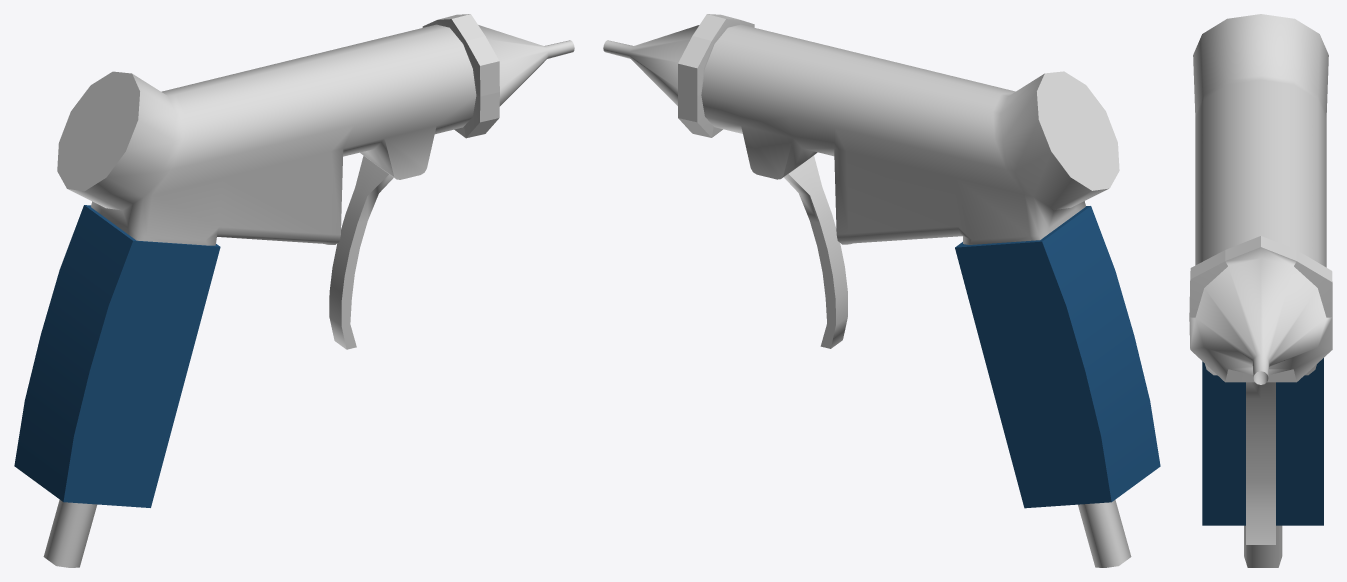
The picture shows the model from 3 angles, left to right: view 1: azimuth 30°, elevation 25°; view 2: azimuth 150°, elevation 25°; view 3: azimuth 270°, elevation 25°; orthographic projection. The views are drawn at different scales.
Visible parts, largest first — view 1: Circle; view 2: Circle; view 3: Circle.
Part boxes in pixels (x1,y1,x2,y2): Circle: (14, 14, 574, 567); Circle: (603, 14, 1160, 567); Circle: (1189, 14, 1332, 567).
Size of the model in its own units: 17.74 by 15.17 by 3.34.
